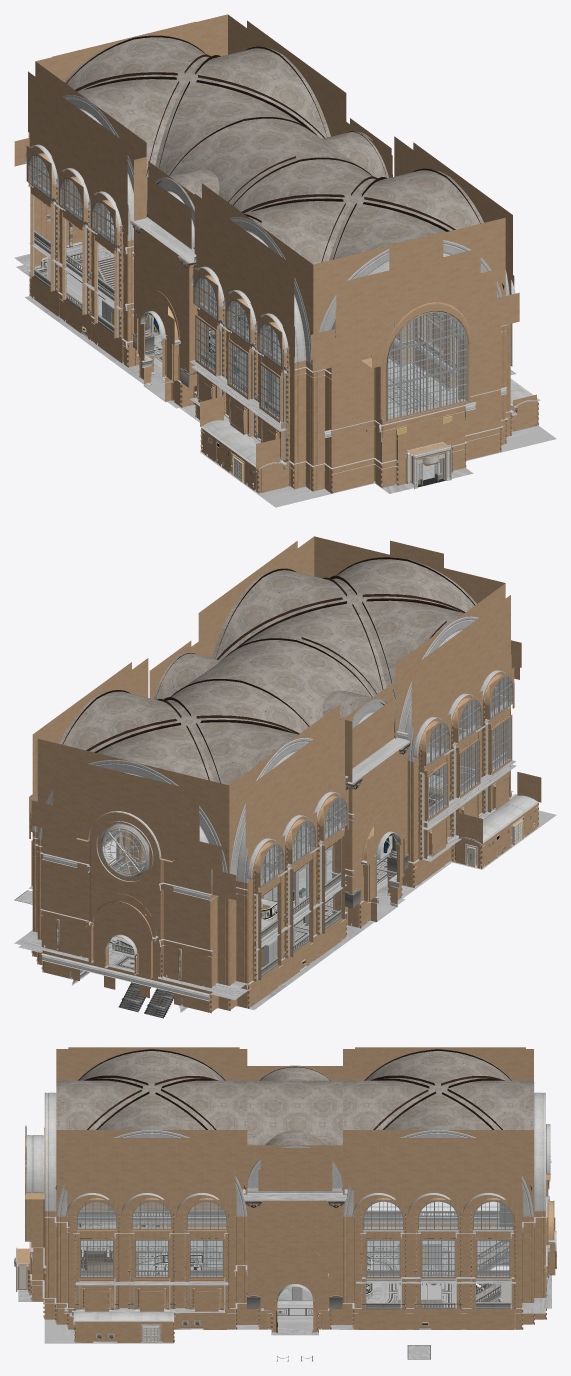
File: the_bank_hall-optimized.glb
3 renders of one model, top to bottom at view 1: azimuth 30°, elevation 25°; view 2: azimuth 150°, elevation 25°; view 3: azimuth 270°, elevation 25°, orthographic. The views are drawn at different scales.
Parts seen in each view (by area): view 1: object 6, object 27, object 5, object 52, object 51, object 3, object 28, object 4, object 8, object 22; view 2: object 6, object 27, object 5, object 3, object 51, object 52, object 28, object 4, object 8, object 23, object 36, object 22 (+1 smaller); view 3: object 6, object 27, object 5, object 52, object 3, object 51, object 8, object 28, object 4, object 36, object 2, object 22 (+2 smaller).
Boxes of the visible parts, <box> form: object 6: <box>14,14,538,493</box>; object 27: <box>64,35,483,264</box>; object 5: <box>24,35,540,491</box>; object 52: <box>28,156,467,478</box>; object 51: <box>27,151,511,484</box>; object 3: <box>14,186,556,507</box>; object 28: <box>66,35,504,334</box>; object 4: <box>33,196,536,492</box>; object 8: <box>34,230,457,438</box>; object 22: <box>130,221,196,387</box>; object 6: <box>29,536,541,1013</box>; object 27: <box>59,557,476,785</box>; object 5: <box>31,557,539,1012</box>; object 3: <box>14,707,556,1012</box>; object 51: <box>30,673,535,967</box>; object 52: <box>103,677,512,918</box>; object 28: <box>62,557,475,852</box>; object 4: <box>44,702,536,1009</box>; object 8: <box>80,751,506,980</box>; object 23: <box>118,982,173,1018</box>; object 36: <box>261,811,332,966</box>; object 22: <box>345,742,410,908</box>; object 6: <box>17,1047,556,1342</box>; object 27: <box>56,1050,533,1188</box>; object 5: <box>16,1049,556,1342</box>; object 52: <box>78,1202,512,1301</box>; object 3: <box>18,1193,551,1359</box>; object 51: <box>14,1125,513,1308</box>; object 8: <box>75,1210,511,1309</box>; object 28: <box>55,1049,531,1190</box>; object 4: <box>14,1160,556,1342</box>; object 36: <box>204,1240,442,1307</box>; object 2: <box>86,1247,451,1359</box>; object 22: <box>244,1200,344,1308</box>.
Size of what is drawn, in the model's own units: 54.39 by 42.21 by 90.98.
107 materials, 97 textured.
